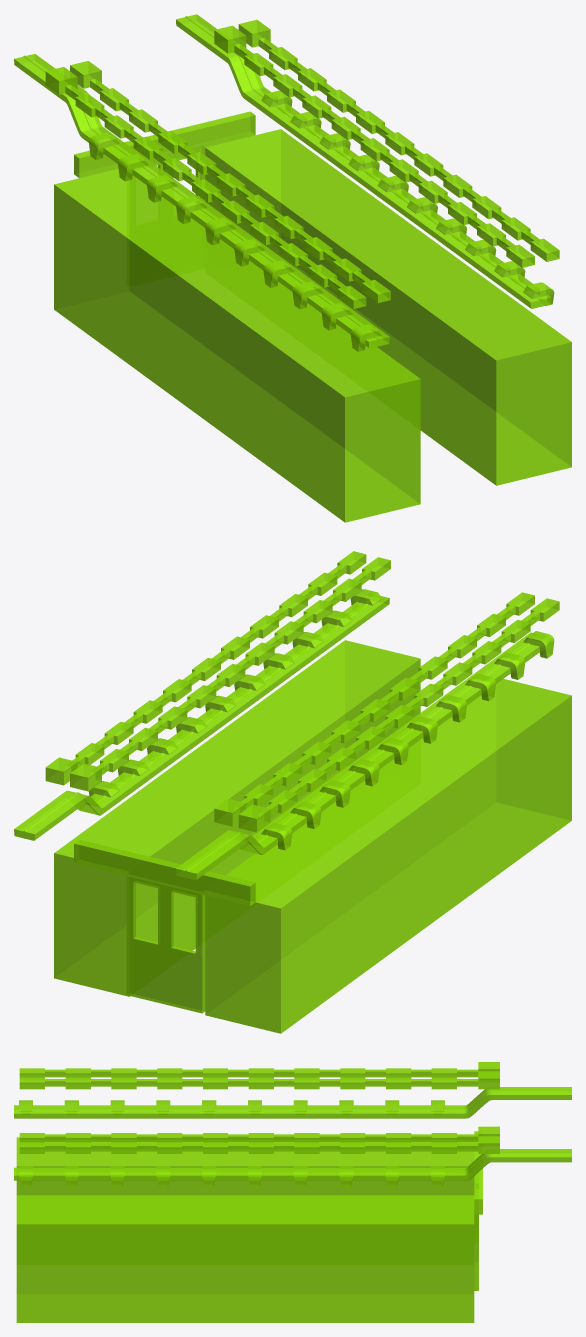
The model's file is aisle.FBX.
The picture shows the model from 3 angles, top to bottom: view 1: azimuth 30°, elevation 25°; view 2: azimuth 150°, elevation 25°; view 3: azimuth 270°, elevation 25°; orthographic projection. The views are drawn at different scales.
Visible parts, largest first — view 1: Object001; view 2: Object001; view 3: Object001.
Part boxes in pixels (<box>): Object001: <box>14,14,571,522</box>; Object001: <box>14,551,571,1033</box>; Object001: <box>14,1062,571,1322</box>.
Size of what is drawn, in the model's own units: 4.8 by 4.54 by 13.
